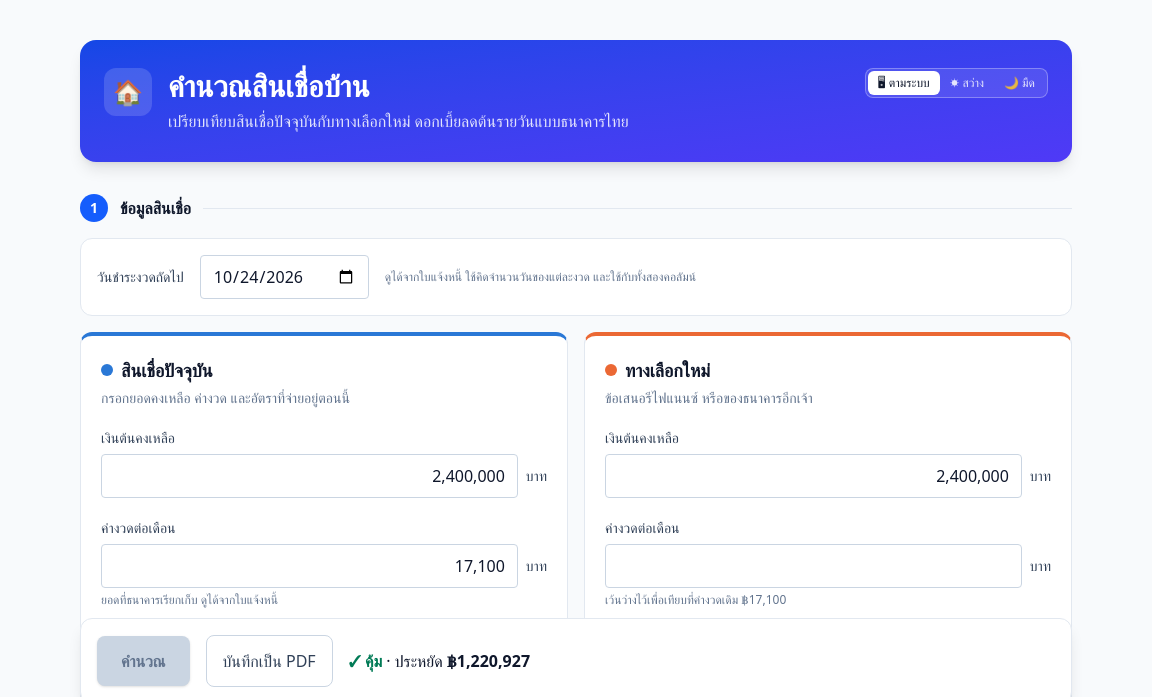
App › flags results as out of date after an edit, so they are not trusted
Expected: the button "คำนวณ" is disabled, left=97, top=636, right=190, bottom=686
In the field labelled "ค่างวดต่อเดือน บาท ยอดที่ธนาคารเรียกเก็บ ดูได้จากใบแจ้งหนี้": point(309, 566) left=101, top=544, right=518, bottom=588, type "5"
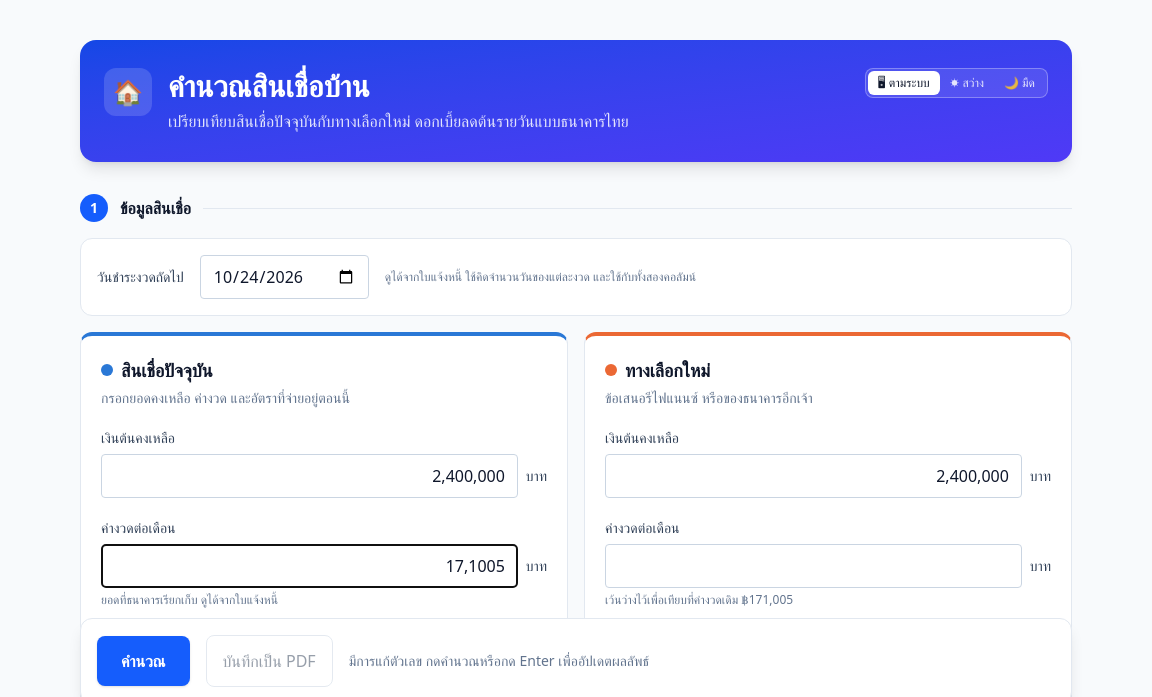
Now the button "คำนวณ" is enabled
Now the message shows "กดคำนวณ", box left=349, top=651, right=649, bottom=670
Now the text "หมดหนี้ใน" is not shown
Click the button "คำนวณ": point(143, 661) left=97, top=636, right=190, bottom=686
(page scrolled)
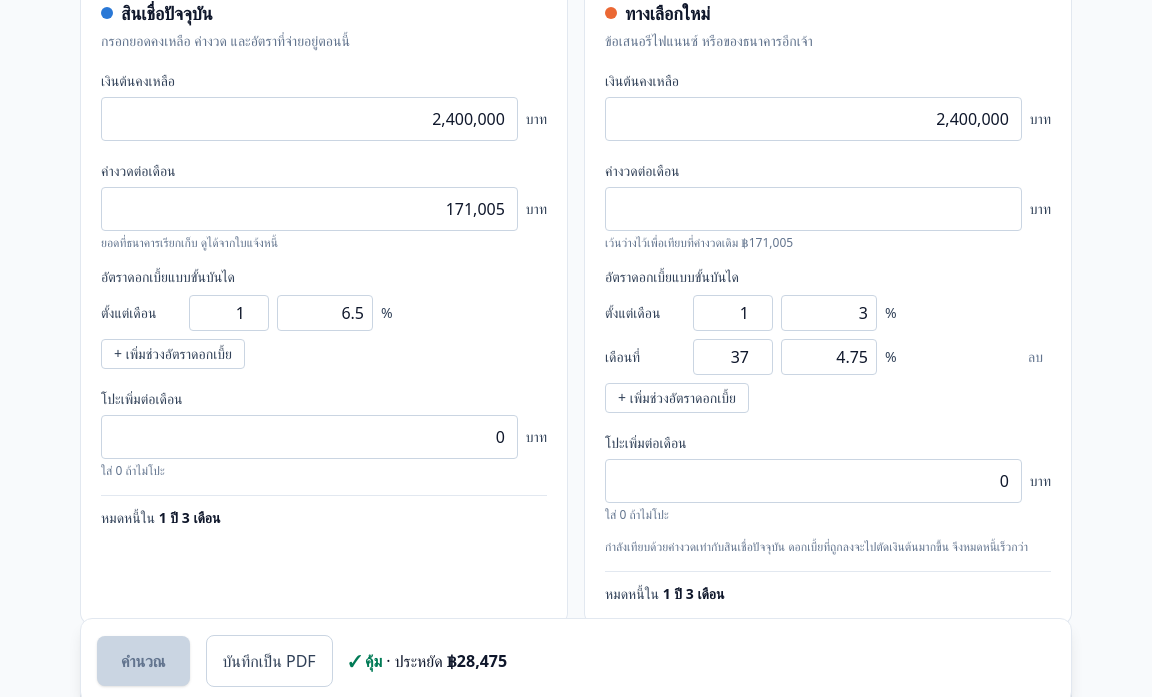
Expected: the text "หมดหนี้ใน 1 ปี 3 เดือน" is shown 2 times, left=101, top=495, right=547, bottom=528; left=605, top=571, right=1051, bottom=604
Now the button "คำนวณ" is disabled, box left=97, top=636, right=190, bottom=686
